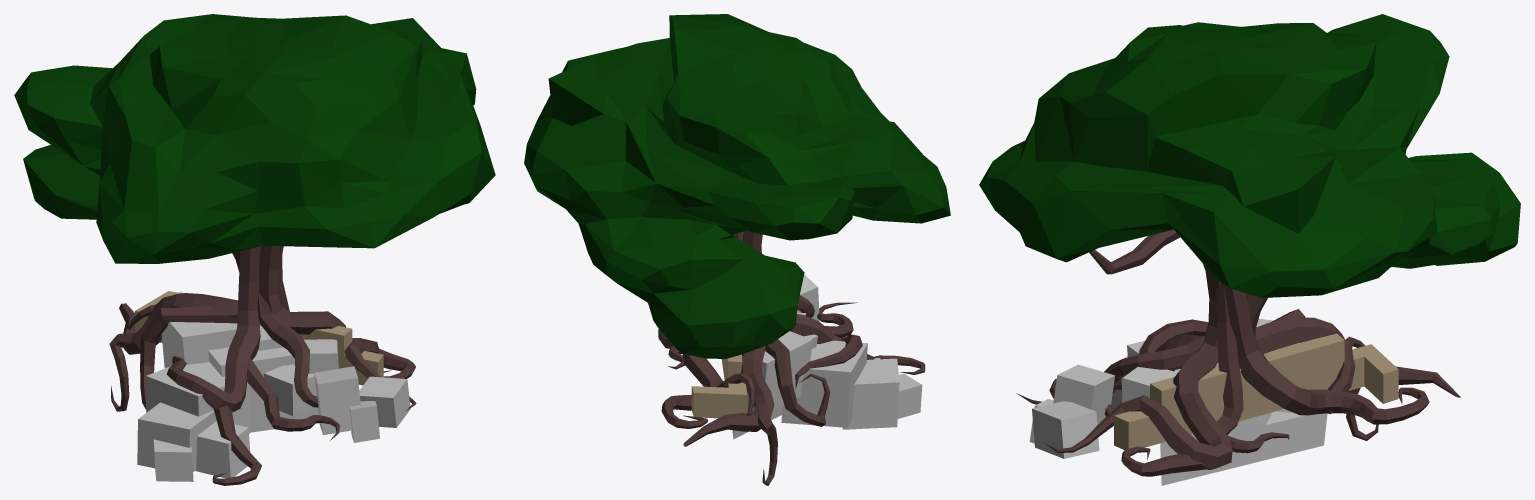
File: DarkWoodDecorationLargeRootBall1.fbx
The picture shows the model from 3 angles, left to right: view 1: azimuth 30°, elevation 25°; view 2: azimuth 150°, elevation 25°; view 3: azimuth 270°, elevation 25°; orthographic projection. The views are drawn at different scales.
Parts seen in each view (by area): view 1: Canopy, Rocks, Trunk, Wall; view 2: Canopy, Trunk, Rocks, Wall; view 3: Canopy, Trunk, Rocks, Wall.
Part boxes in pixels (box(x1,y1,x2,y2)): Canopy: box(14, 14, 495, 263); Rocks: box(137, 322, 410, 481); Trunk: box(109, 245, 416, 485); Wall: box(135, 291, 383, 385); Canopy: box(524, 14, 950, 358); Trunk: box(658, 230, 925, 485); Rocks: box(732, 274, 922, 439); Wall: box(691, 354, 747, 418); Canopy: box(979, 14, 1520, 297); Trunk: box(1016, 229, 1460, 476); Rocks: box(1029, 318, 1327, 485); Wall: box(1114, 333, 1398, 450).
Size of the model in its own units: 1729 by 1668 by 1794.
